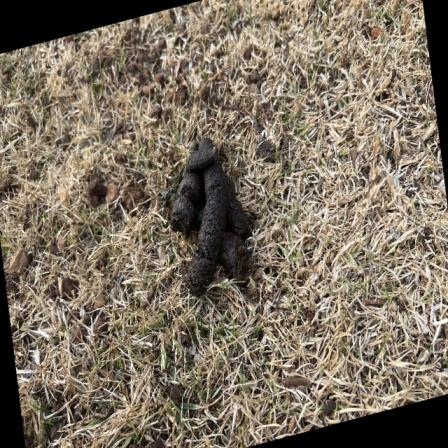dog-poop: (158, 137, 253, 297)
